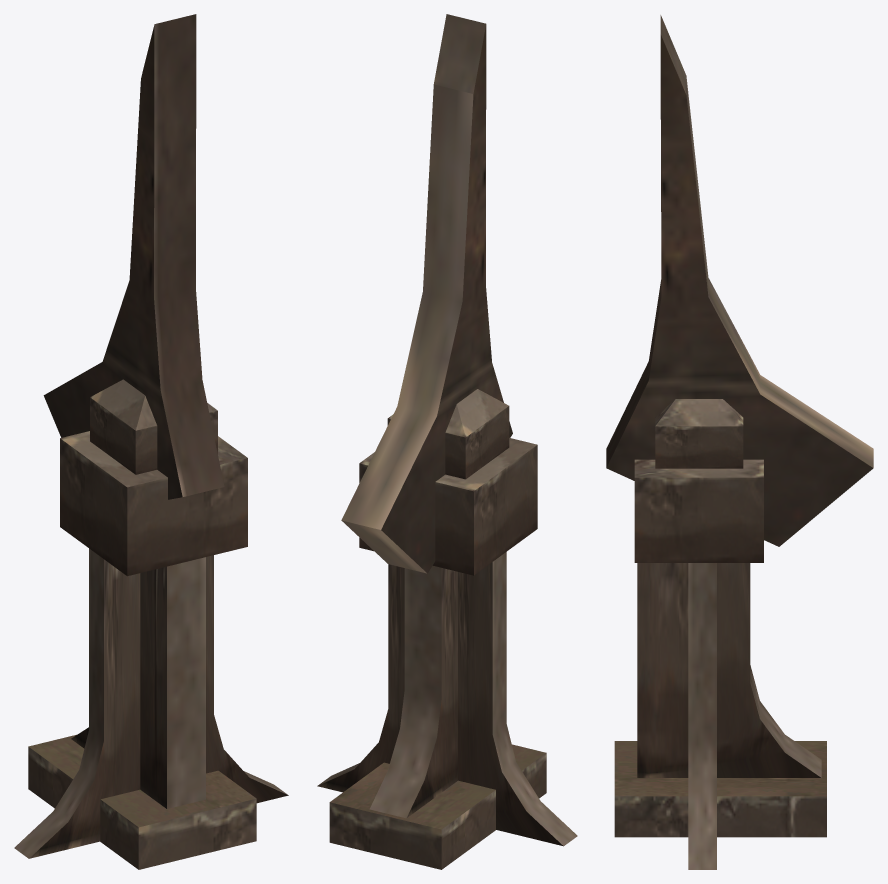
The model's file is new_p_fence_6.FBX.
3 renders of one model, left to right at view 1: azimuth 30°, elevation 25°; view 2: azimuth 150°, elevation 25°; view 3: azimuth 270°, elevation 25°, orthographic. The views are drawn at different scales.
Parts seen in each view (by area): view 1: new_p_fence_6; view 2: new_p_fence_6; view 3: new_p_fence_6.
Boxes of the visible parts, x1,y1,x2,y2 form: new_p_fence_6: [14, 14, 288, 869]; new_p_fence_6: [317, 14, 577, 869]; new_p_fence_6: [606, 15, 873, 869].
Bounding box in the file's own units: 0.6612 × 1.99 × 0.6126.
